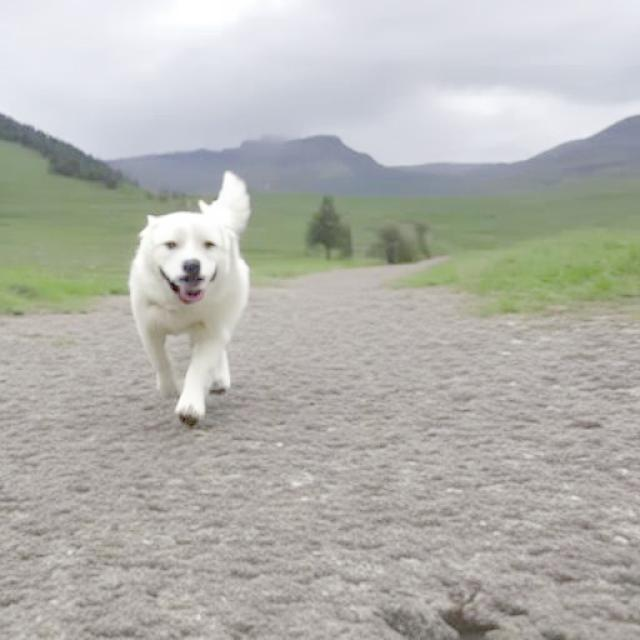Dog: (128, 171, 251, 426)
